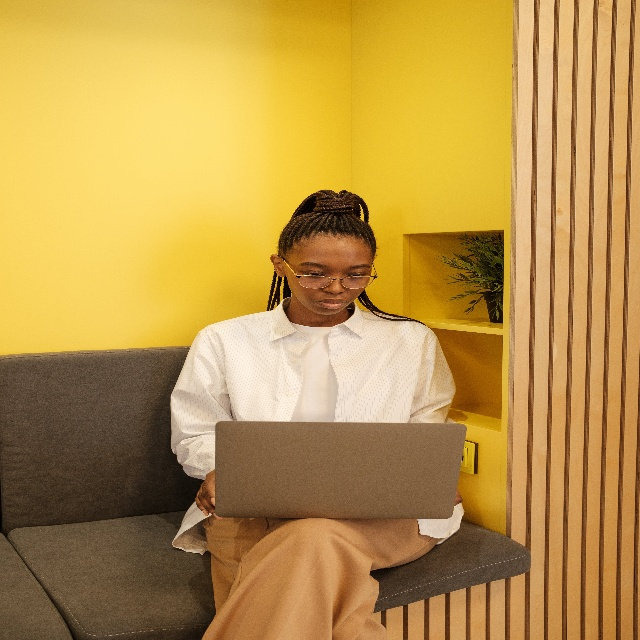Gafas: (295, 268, 379, 292)
Sin_guantes: (194, 468, 219, 522)
